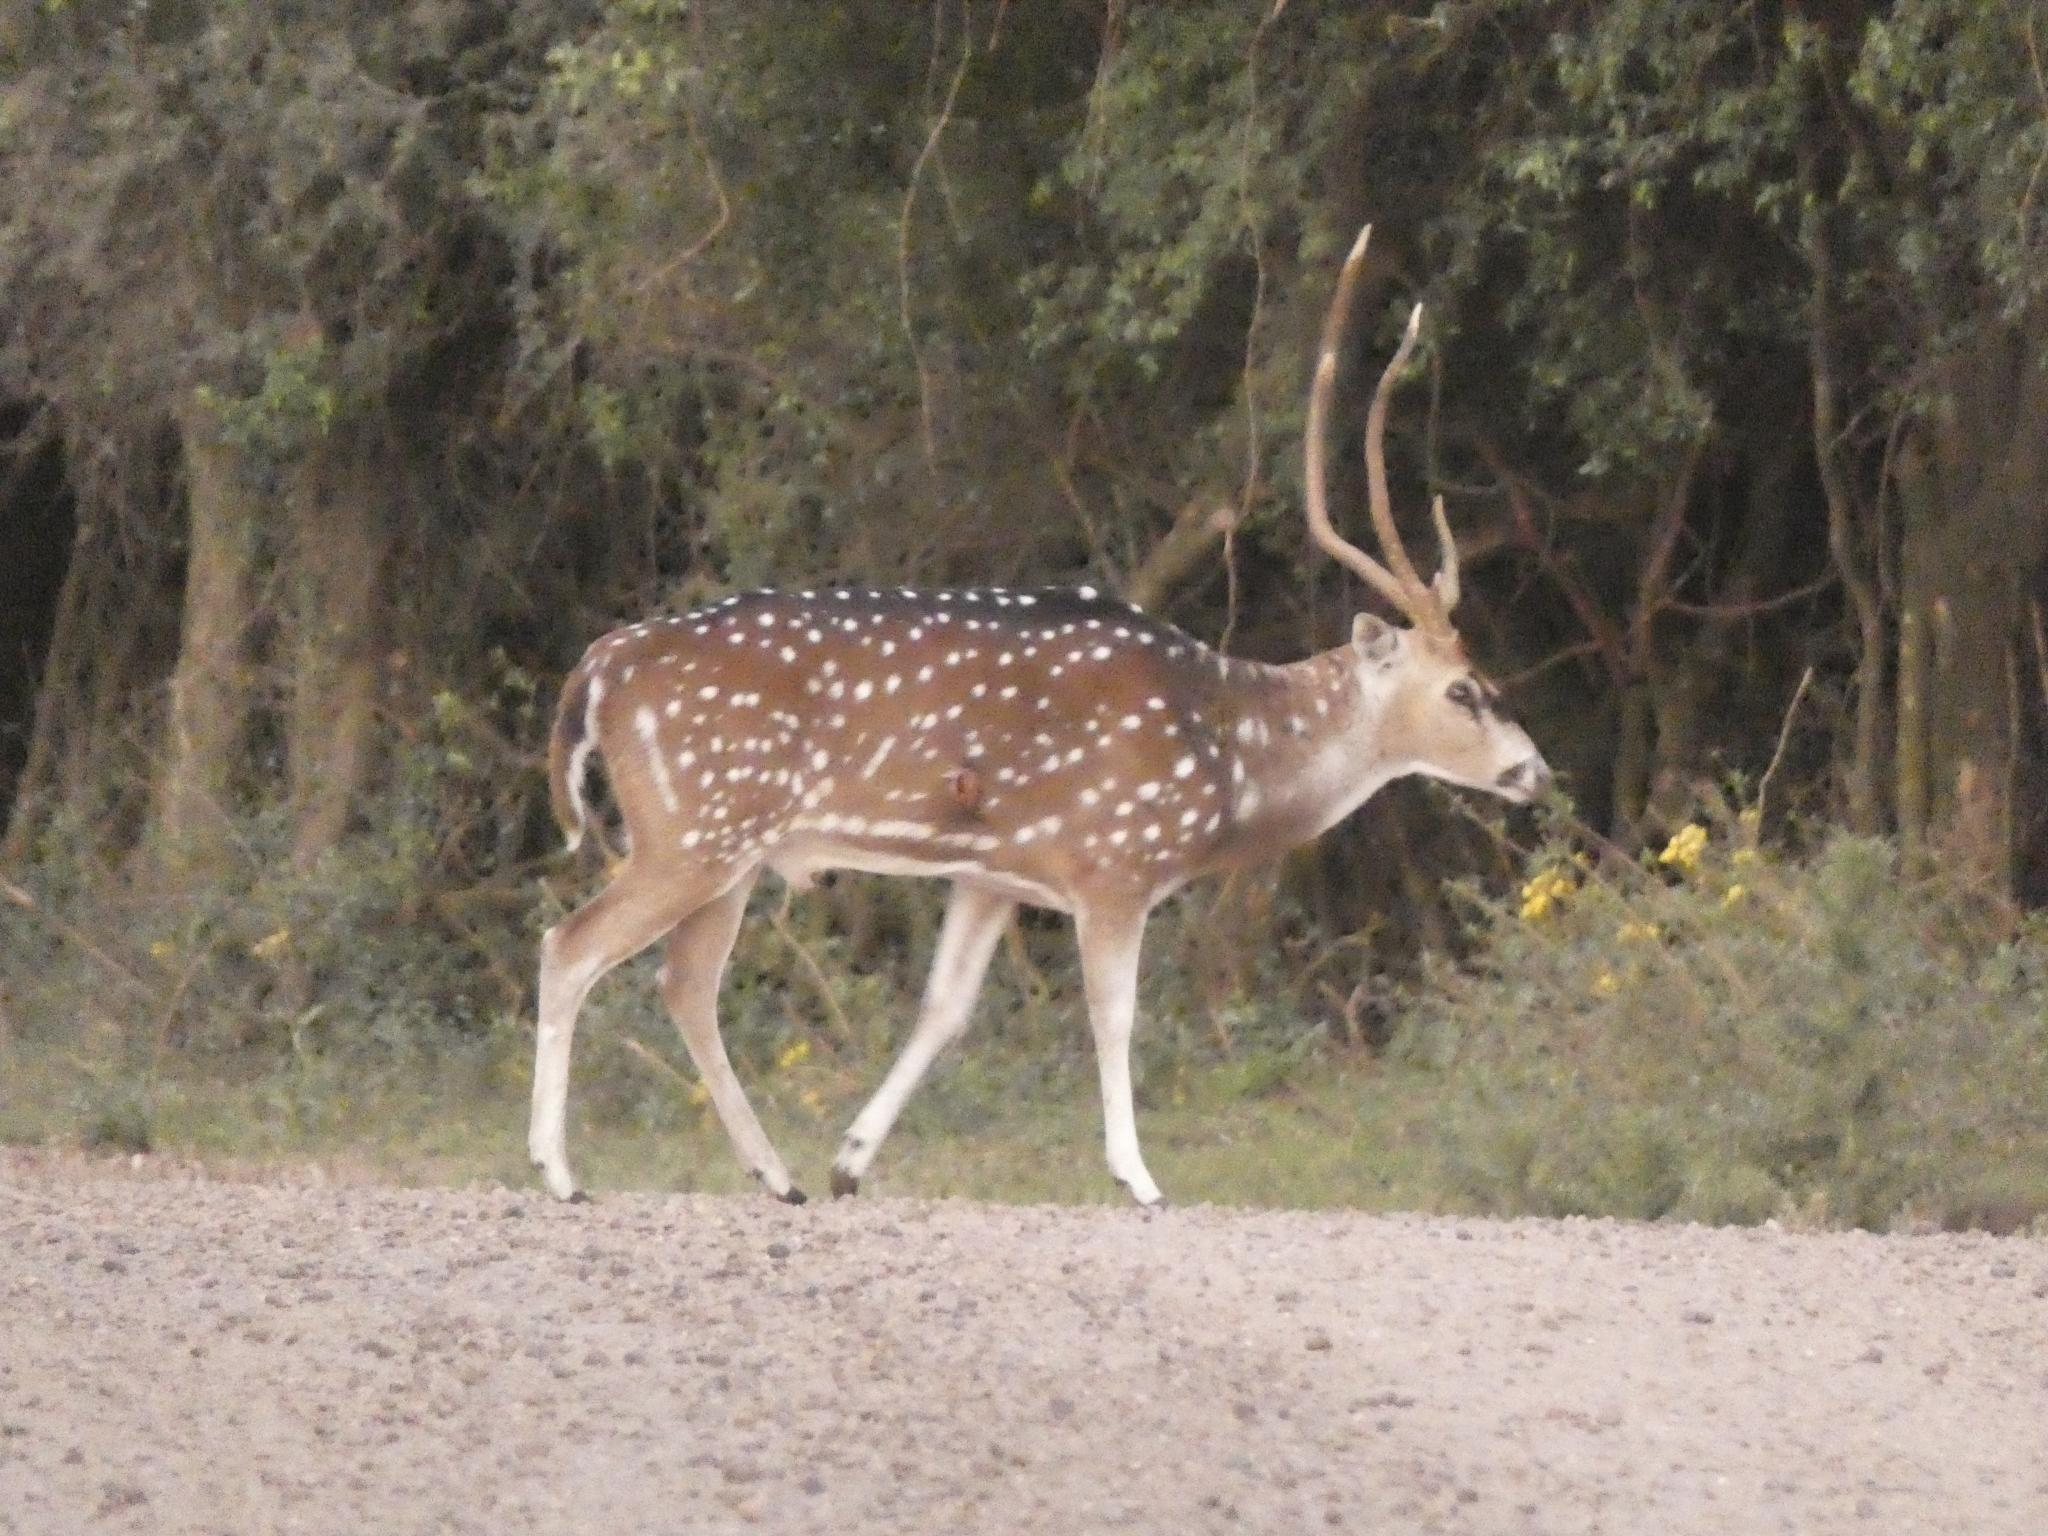Deer: (529, 224, 1548, 1204)
